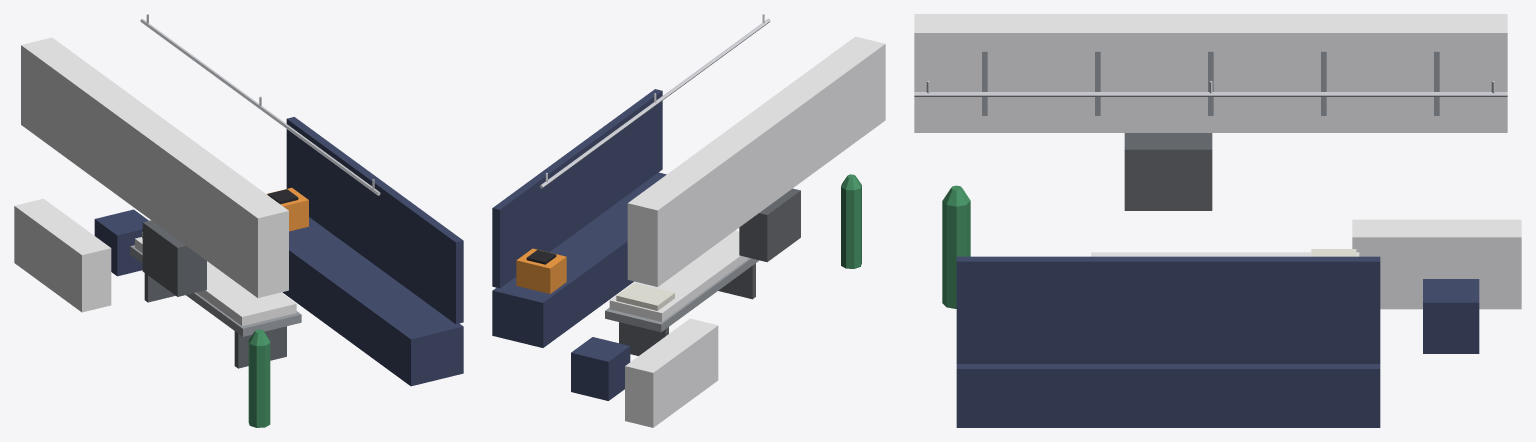
File: AmbulanceCot.obj
3 renders of one model, left to right at view 1: azimuth 30°, elevation 25°; view 2: azimuth 150°, elevation 25°; view 3: azimuth 270°, elevation 25°, orthographic. The views are drawn at different scales.
Visible parts, largest first — view 1: AmbulanceCot; view 2: AmbulanceCot; view 3: AmbulanceCot.
Part boxes in pixels (box(x1,y1,x2,y2)): AmbulanceCot: box(14, 14, 463, 427); AmbulanceCot: box(492, 14, 885, 427); AmbulanceCot: box(914, 14, 1521, 427).
Bounding box in the file's own units: 2.29 × 2.22 × 4.3.
Materials: 1 (1 with a texture image).
